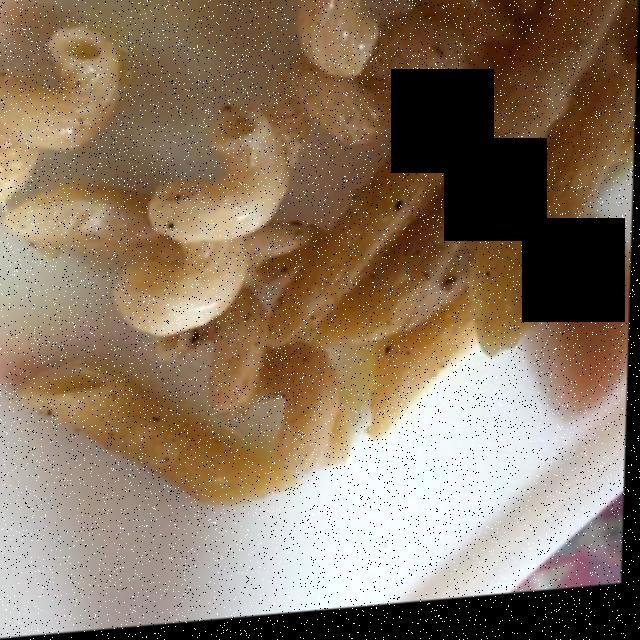pasta: (9, 0, 624, 505)
